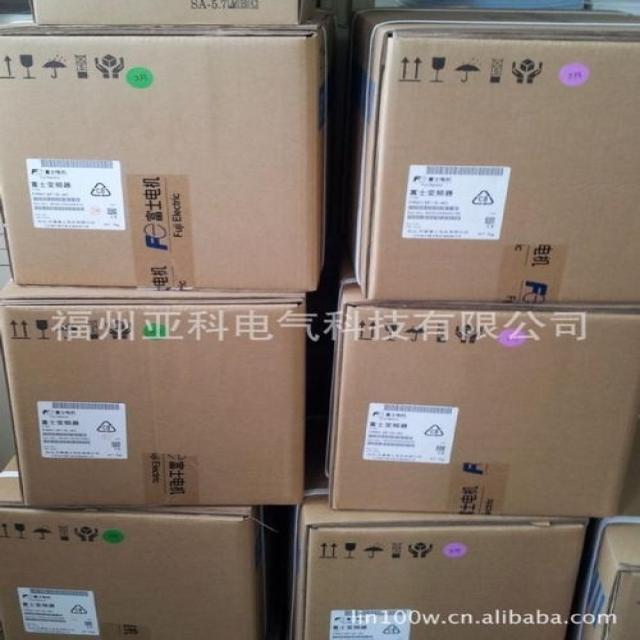box: (0, 11, 333, 294), (338, 6, 640, 306), (319, 261, 640, 519), (0, 285, 307, 509), (279, 444, 588, 639), (0, 453, 279, 640), (566, 441, 640, 640), (28, 0, 324, 25)
